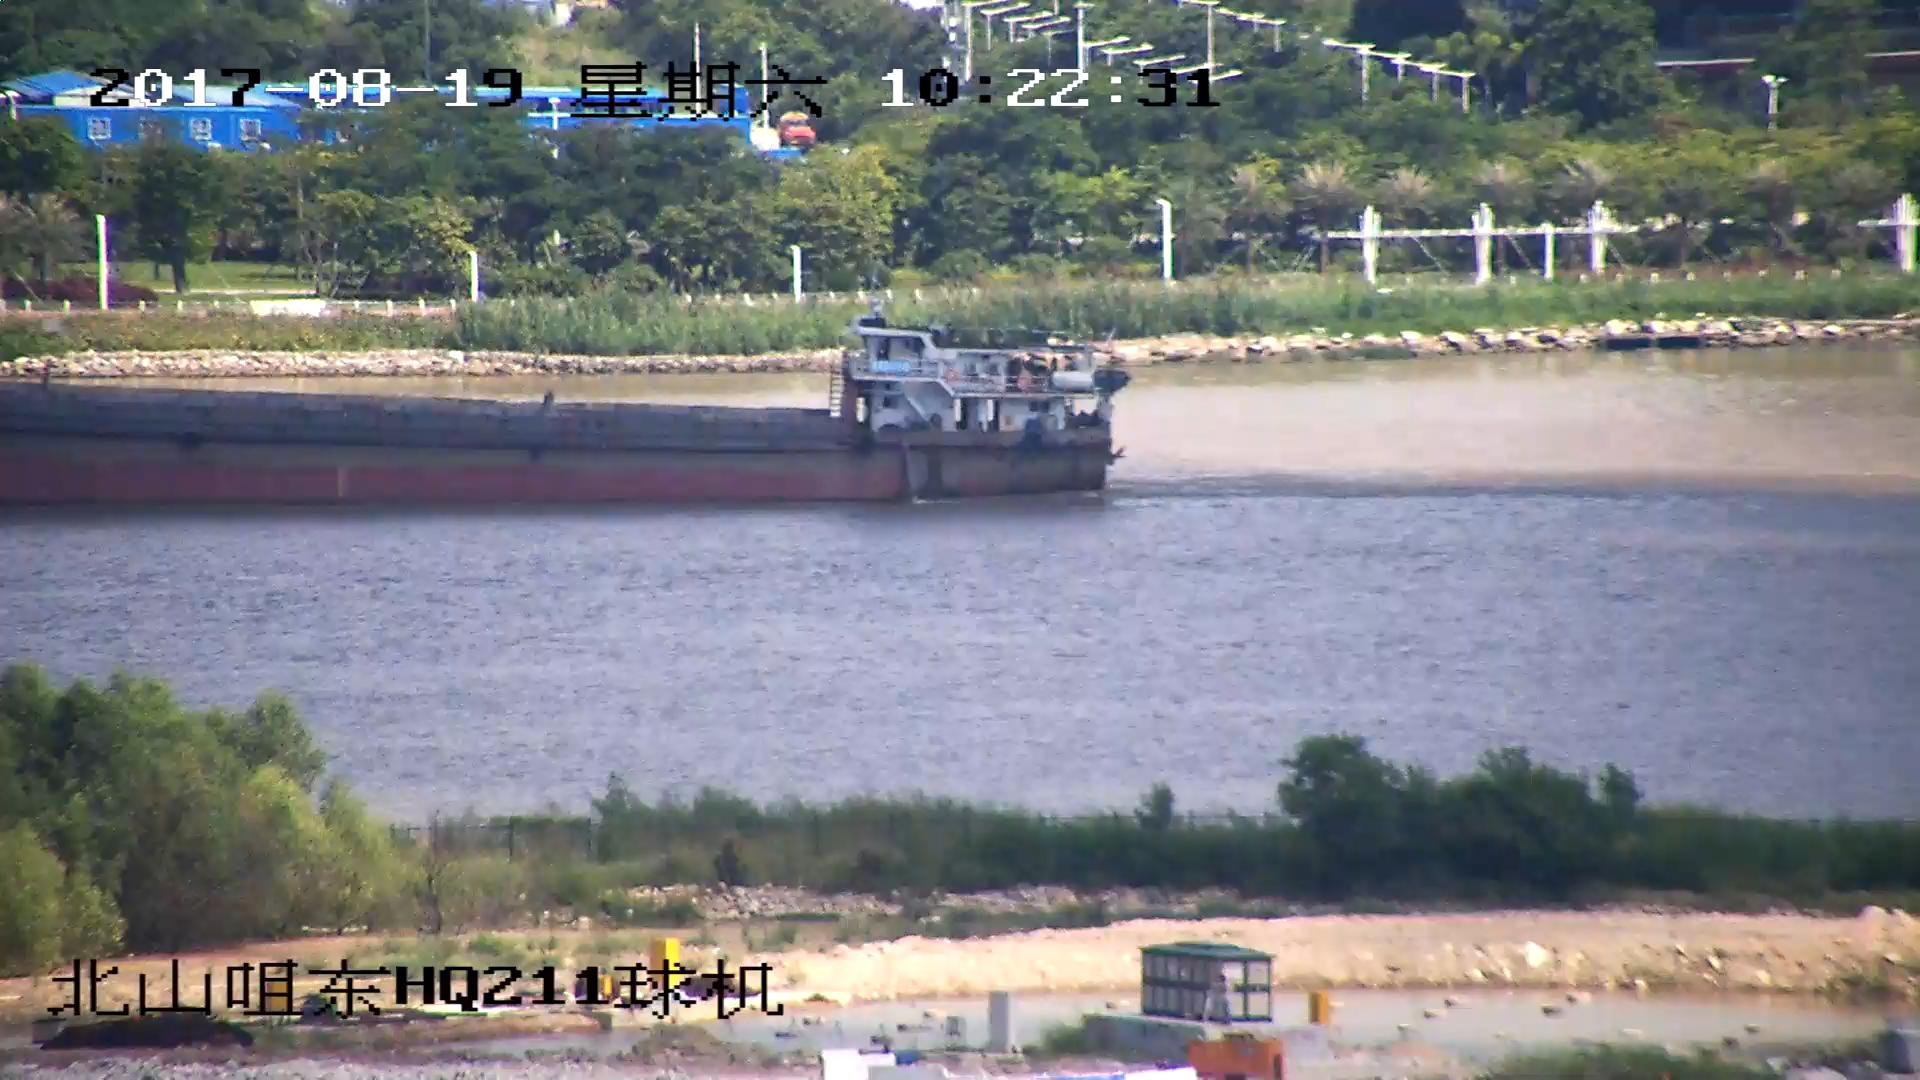bulk cargo carrier: (1, 307, 1130, 504)
